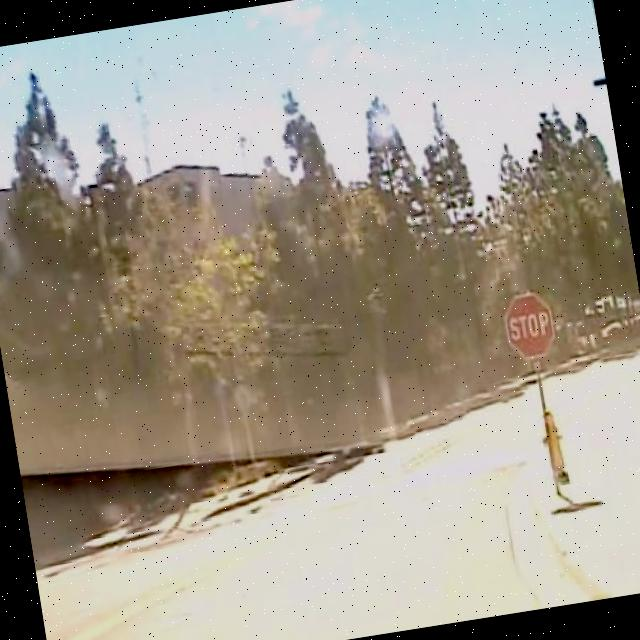Stop: (499, 287, 562, 363)
